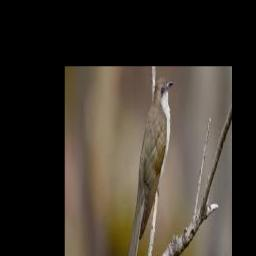Cuckoo: (120, 77, 174, 256)
